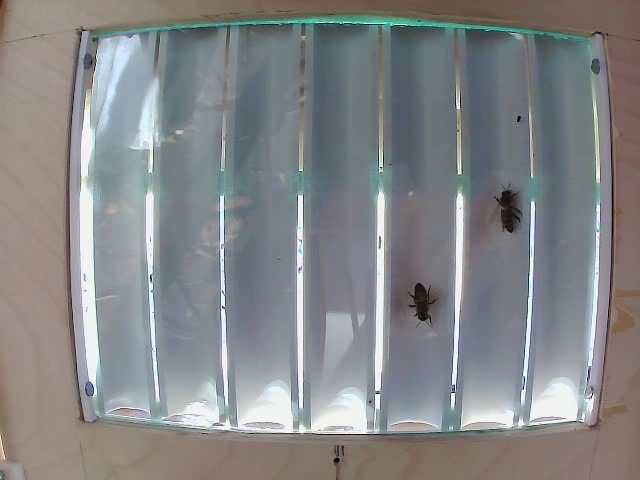bee: (489, 166, 530, 232), (405, 267, 435, 318)
